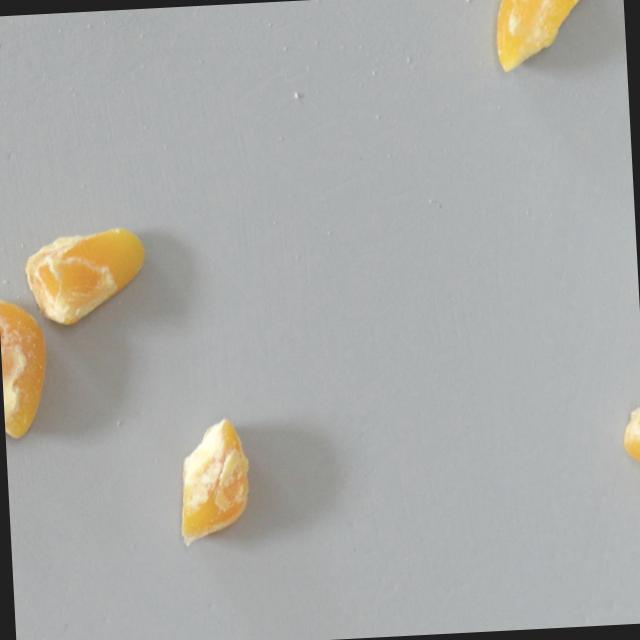dañado: (18, 218, 155, 331), (166, 410, 258, 559), (490, 0, 603, 78), (0, 289, 55, 444), (615, 397, 640, 504)
